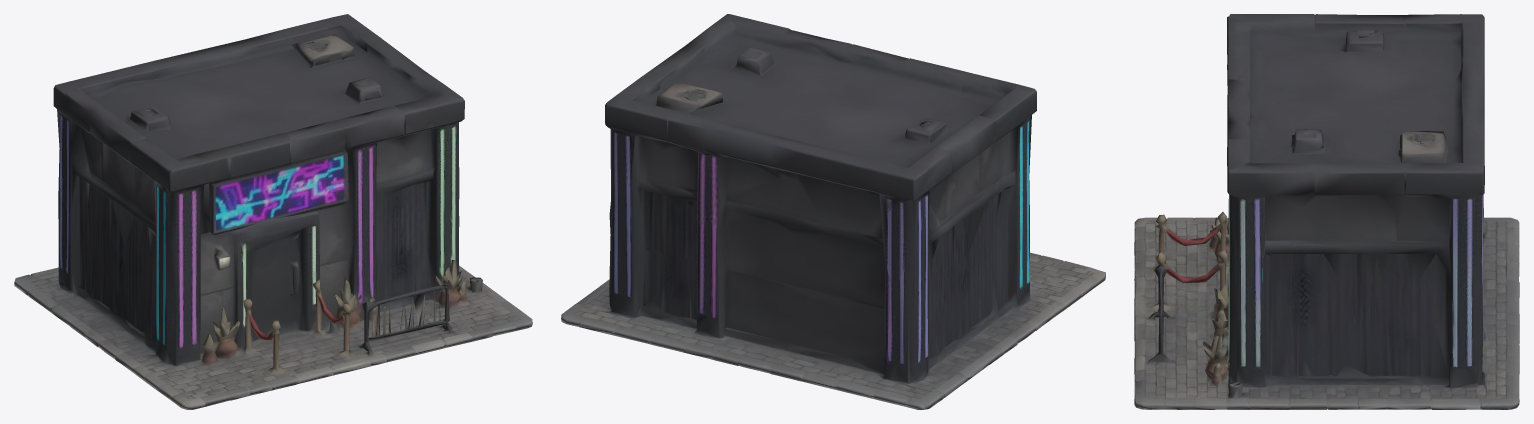
Rendered from nightclub_main.glb.
3 views of the same model, side by side, from view 1: azimuth 30°, elevation 25°; view 2: azimuth 150°, elevation 25°; view 3: azimuth 270°, elevation 25° (orthographic). The views are drawn at different scales.
Visible parts, largest first — view 1: tripo_node_e880c6f4-7cbd-469f-9ae2-7f03bf54c3f0; view 2: tripo_node_e880c6f4-7cbd-469f-9ae2-7f03bf54c3f0; view 3: tripo_node_e880c6f4-7cbd-469f-9ae2-7f03bf54c3f0.
Part boxes in pixels (left/top/right/bottom): tripo_node_e880c6f4-7cbd-469f-9ae2-7f03bf54c3f0: left=14, top=14, right=532, bottom=409; tripo_node_e880c6f4-7cbd-469f-9ae2-7f03bf54c3f0: left=561, top=14, right=1105, bottom=409; tripo_node_e880c6f4-7cbd-469f-9ae2-7f03bf54c3f0: left=1134, top=14, right=1519, bottom=409.
Size of the model in its own units: 1 by 0.5644 by 0.8668.
Materials: 1 (1 with a texture image).
